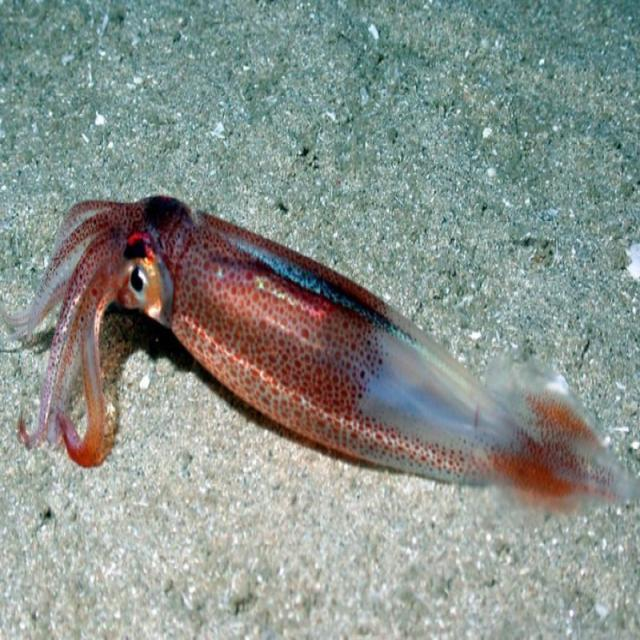squid: (6, 196, 637, 509)
